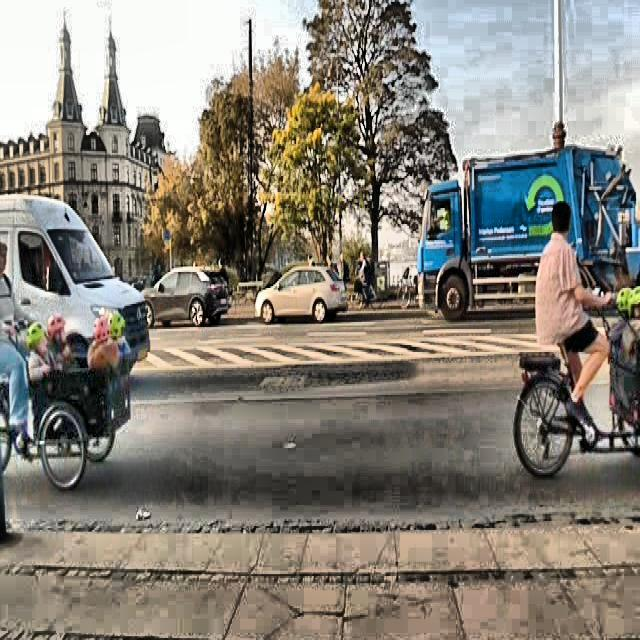ladcykel: (513, 284, 640, 492), (0, 302, 130, 492)
